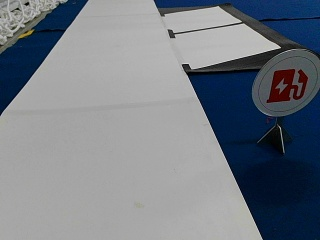battery: (252, 47, 319, 117)
